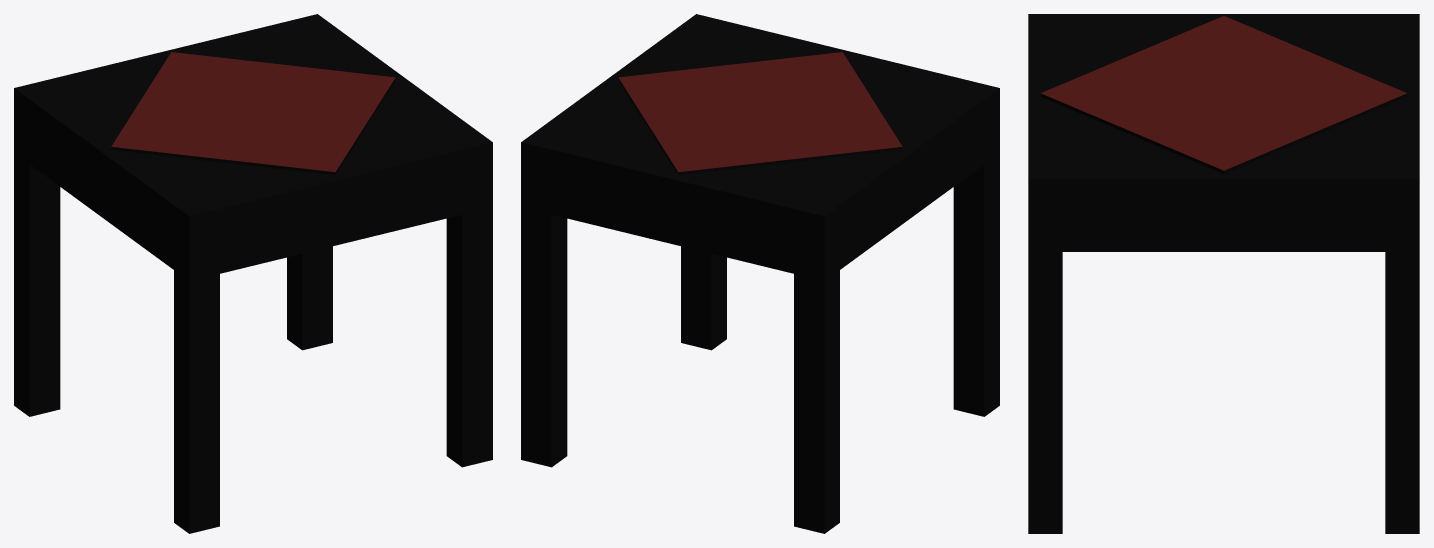
The model's file is Table.fbx.
3 views of the same model, side by side, from view 1: azimuth 30°, elevation 25°; view 2: azimuth 150°, elevation 25°; view 3: azimuth 270°, elevation 25° (orthographic). The views are drawn at different scales.
Visible parts, largest first — view 1: Table; view 2: Table; view 3: Table.
Part boxes in pixels (bbox=[...]): Table: bbox=[14, 14, 492, 533]; Table: bbox=[521, 14, 999, 533]; Table: bbox=[1028, 14, 1419, 533].
Size of the model in its own units: 73 by 73.7 by 73.
